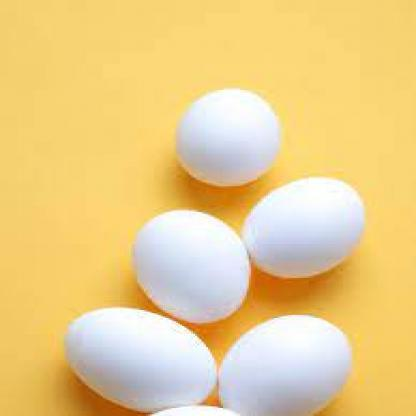egg: (66, 308, 221, 415), (131, 206, 254, 326), (215, 312, 352, 416), (239, 172, 368, 282), (172, 86, 286, 190), (145, 402, 248, 416)
